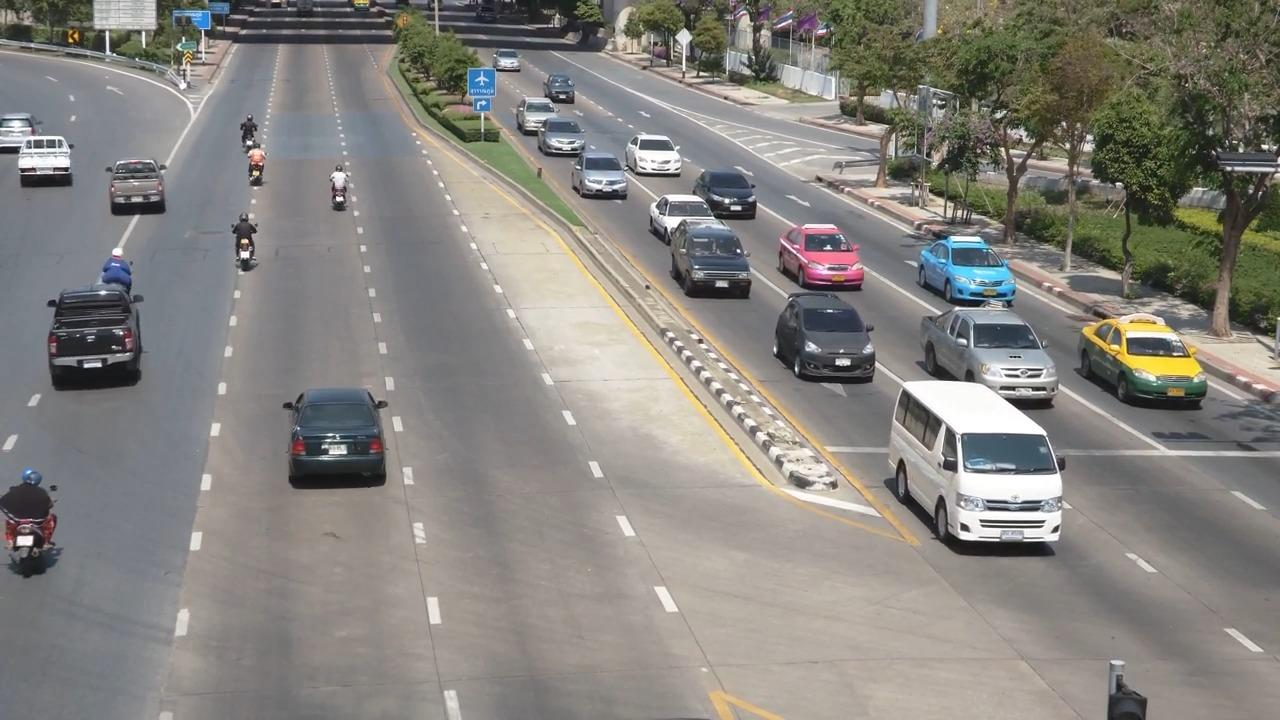CAR: (878, 374, 1067, 552), (261, 376, 404, 500), (915, 298, 1073, 406), (1071, 305, 1218, 420), (38, 281, 157, 408), (765, 286, 882, 386), (909, 225, 1035, 305), (772, 203, 868, 297), (103, 142, 196, 230), (667, 218, 755, 299), (9, 129, 86, 204), (646, 184, 720, 244), (693, 165, 761, 223), (568, 145, 630, 203), (620, 125, 684, 180), (537, 116, 586, 161), (506, 91, 556, 133), (536, 71, 578, 108), (490, 49, 526, 76)
MOTOR: (0, 456, 75, 598), (215, 208, 270, 286), (92, 243, 140, 305), (238, 138, 279, 195), (322, 156, 358, 217), (232, 106, 272, 158)
